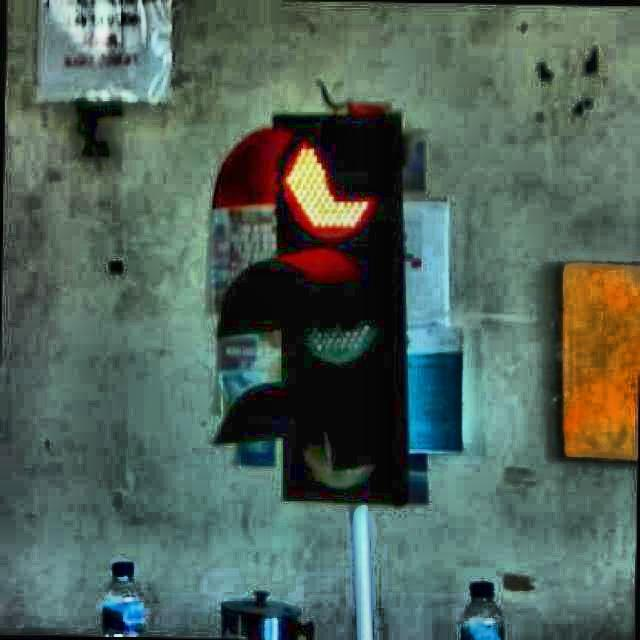red: (245, 106, 414, 495)
